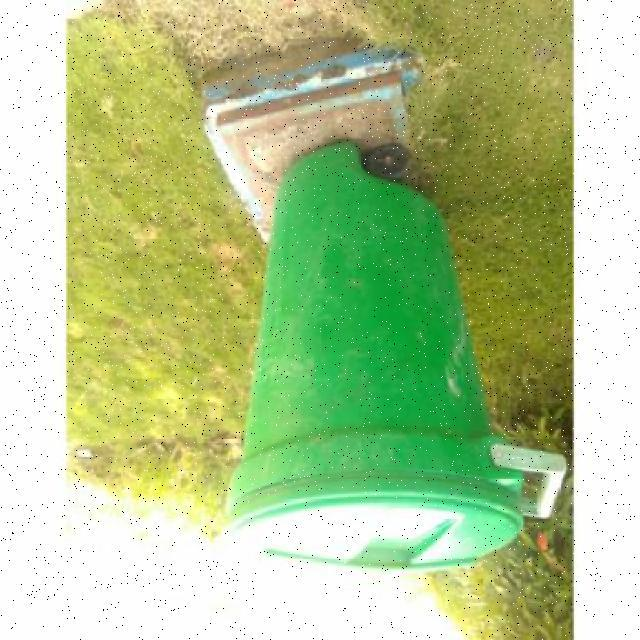garbage container: (211, 132, 577, 586)
